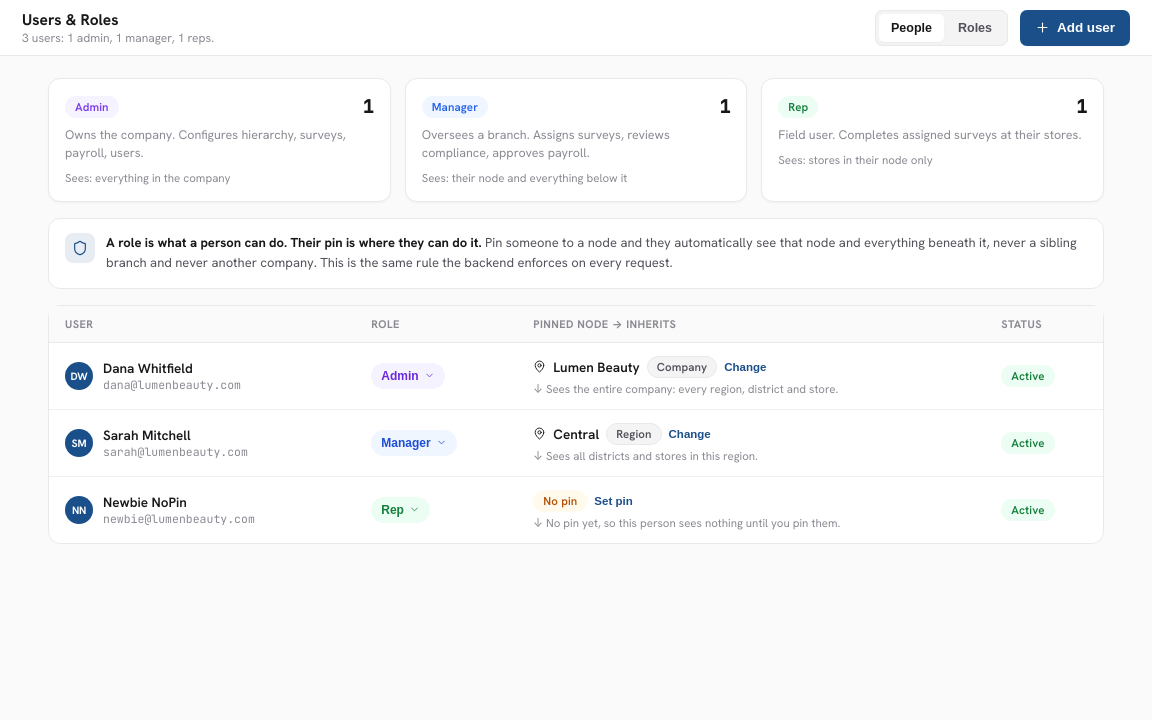
Test: Users page › admin sees the Add user button; switching to Roles shows the matrix
Expected: the text "Dana Whitfield" is shown, [103,359,193,377]
Expected: the button "Add user" is shown, [1020,10,1130,46]
Step 1. Click the button "Roles" → [975, 28], box [946,14,1004,42]
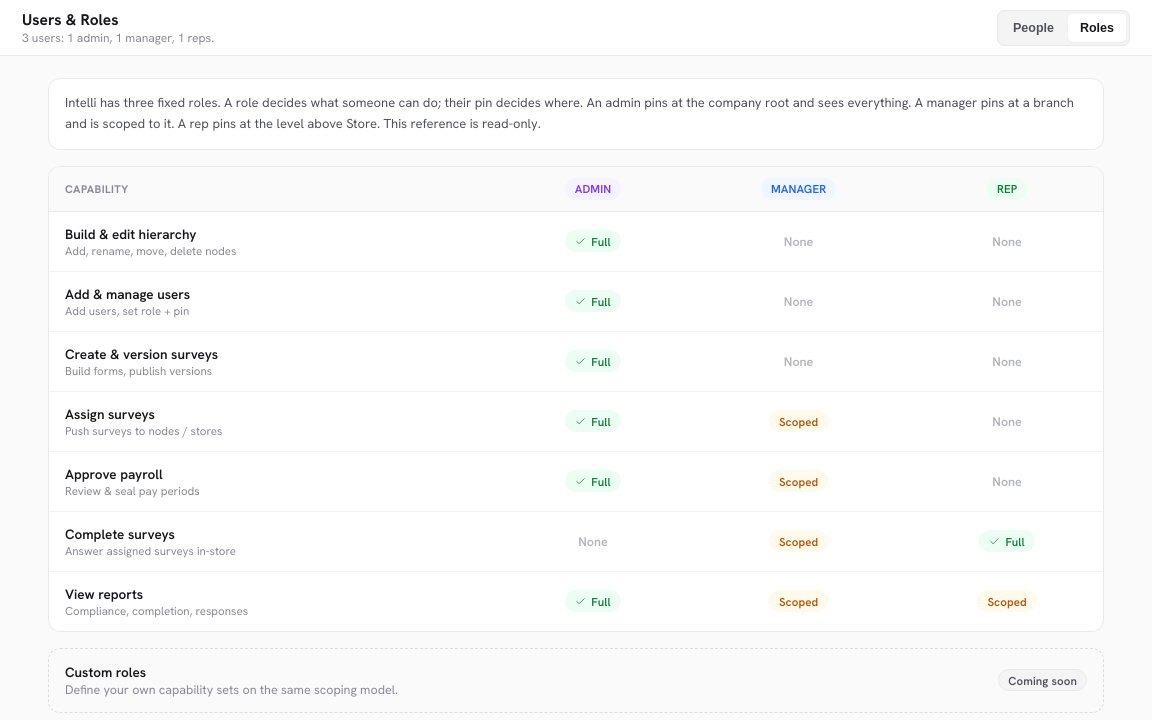
Now the text "Build & edit hierarchy" is shown, box [65,225,196,243]
